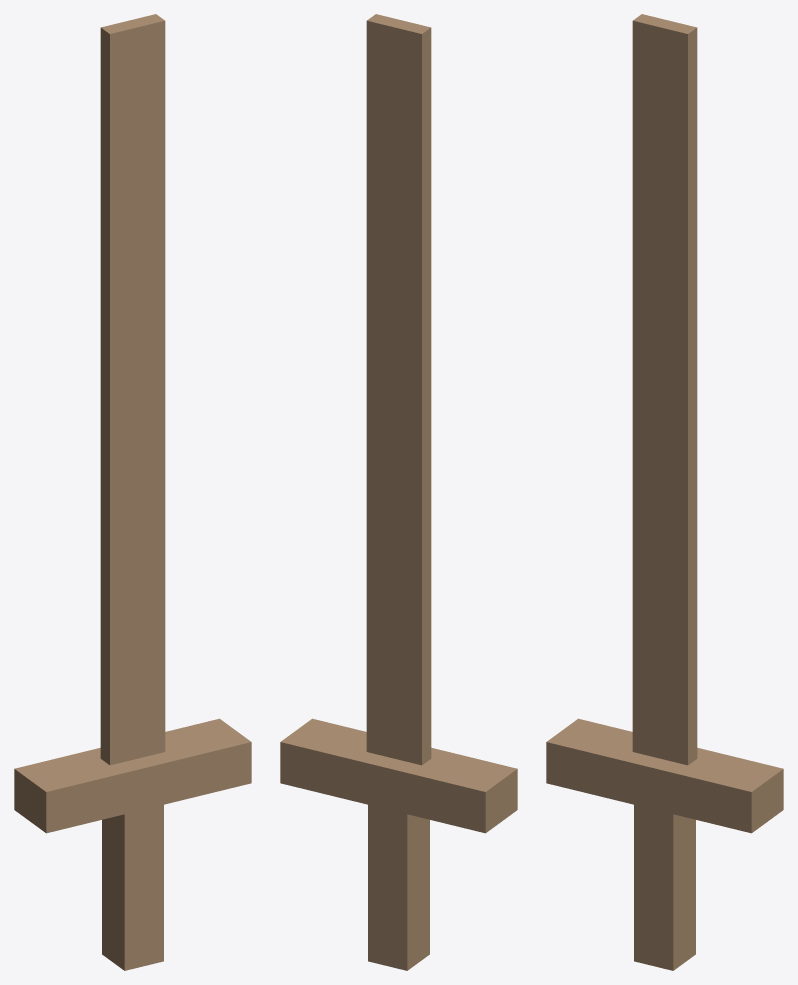
The model's file is rusty_sword_legacy.glb.
3 renders of one model, left to right at view 1: azimuth 30°, elevation 25°; view 2: azimuth 150°, elevation 25°; view 3: azimuth 330°, elevation 25°, orthographic.
Visible parts, largest first — view 1: blade, guard, grip; view 2: blade, guard, grip; view 3: blade, guard, grip.
Boxes of the visible parts, x1=… form: blade: x1=100, y1=14, x2=165, y2=765; guard: x1=14, y1=718, x2=251, y2=833; grip: x1=102, y1=805, x2=163, y2=970; blade: x1=366, y1=14, x2=431, y2=765; guard: x1=280, y1=718, x2=517, y2=833; grip: x1=368, y1=805, x2=429, y2=970; blade: x1=632, y1=14, x2=697, y2=765; guard: x1=546, y1=718, x2=783, y2=833; grip: x1=634, y1=805, x2=695, y2=970.
Bounding box in the file's own units: 0.26 × 1.13 × 0.07.
